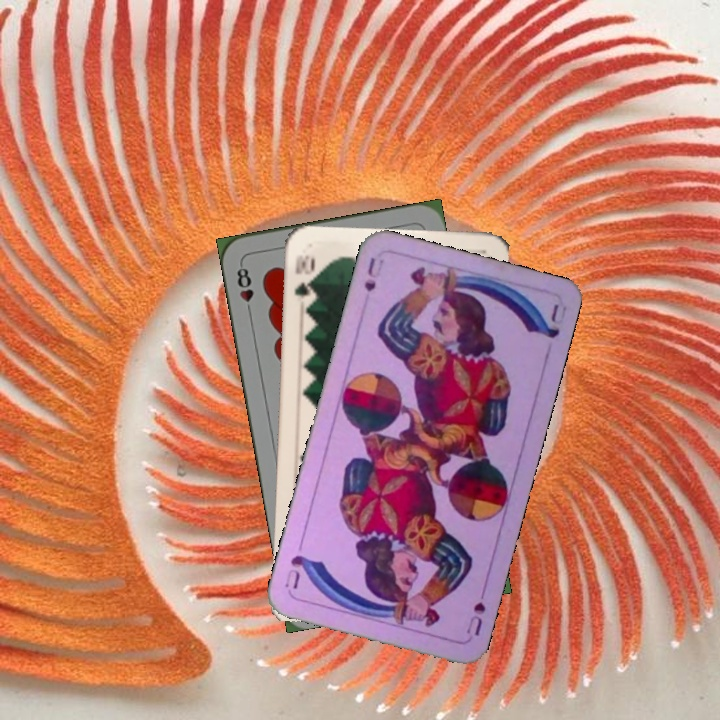G10: (291, 251, 316, 301)
H8: (233, 260, 257, 318)
SU: (462, 582, 489, 639), (360, 253, 387, 294)
